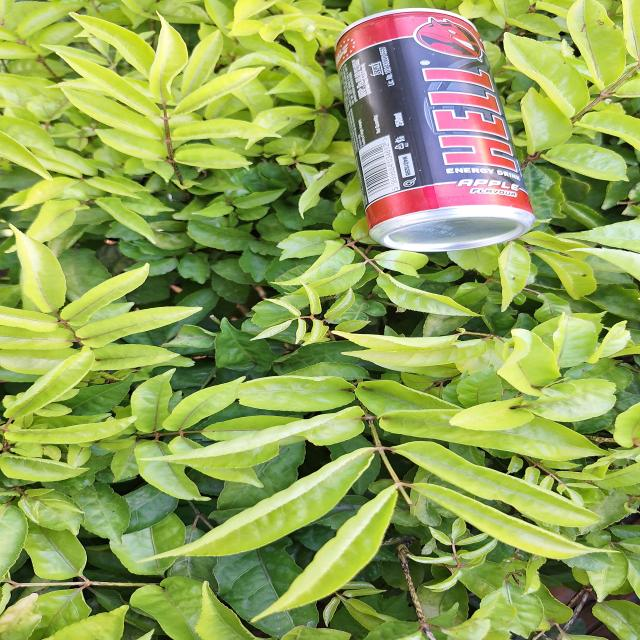Hell Apple: (329, 11, 544, 246)
